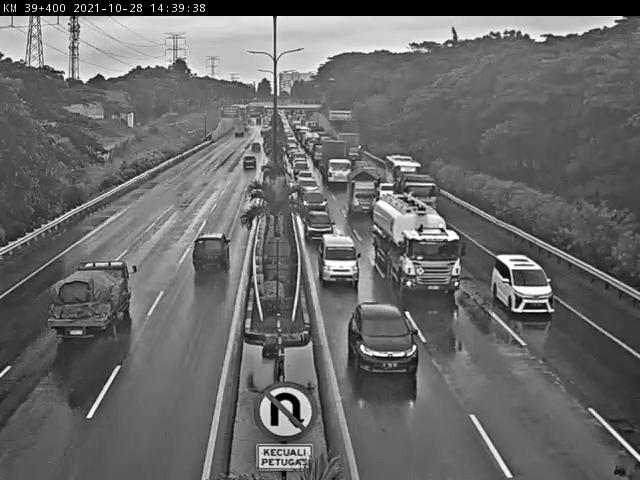big truck: (360, 186, 443, 272)
car: (344, 306, 406, 378), (184, 226, 253, 277), (511, 257, 563, 313), (318, 223, 352, 265), (304, 205, 330, 232), (301, 185, 325, 203), (240, 152, 259, 174), (245, 137, 265, 157), (299, 163, 315, 183)
small truck: (29, 246, 144, 380), (343, 167, 371, 204)
